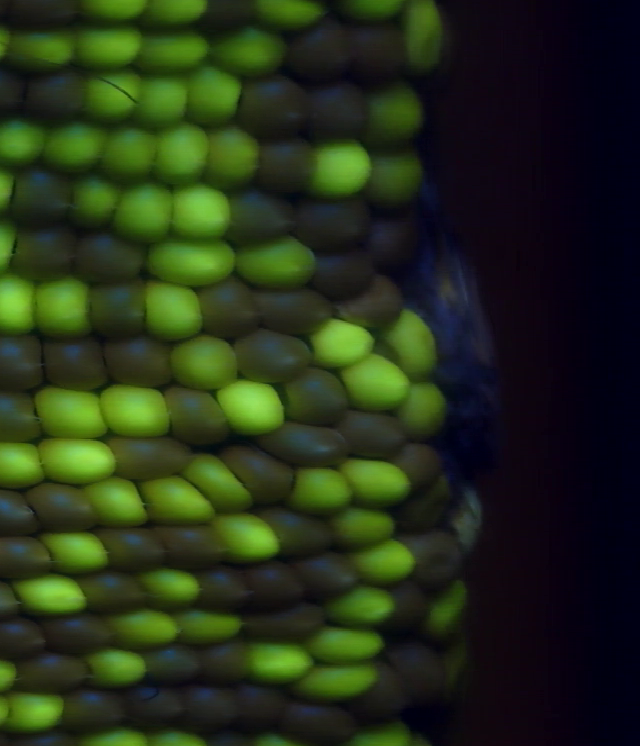fluorescent: (237, 232, 316, 286), (97, 382, 168, 440), (36, 386, 107, 442), (381, 309, 439, 377), (114, 177, 175, 240), (147, 241, 236, 284), (213, 26, 289, 75), (98, 124, 158, 186), (39, 437, 116, 485), (217, 379, 288, 431), (31, 277, 89, 340), (187, 453, 251, 510), (313, 140, 373, 199), (207, 124, 259, 191), (143, 279, 203, 337), (74, 22, 143, 71), (343, 358, 409, 409), (293, 463, 353, 519), (40, 120, 103, 173), (171, 337, 237, 387), (155, 125, 207, 187), (174, 184, 233, 238), (218, 513, 282, 561), (188, 68, 242, 124), (370, 147, 422, 205), (174, 184, 232, 236), (366, 85, 422, 137), (142, 32, 213, 72), (143, 477, 206, 522), (347, 458, 408, 504), (398, 383, 448, 439), (91, 478, 147, 527), (43, 535, 113, 573), (311, 622, 381, 660), (312, 321, 371, 366), (86, 72, 139, 122), (137, 72, 187, 125), (6, 32, 77, 69), (336, 586, 395, 628), (355, 541, 415, 582), (247, 642, 310, 681), (407, 2, 444, 68), (336, 508, 397, 548), (112, 610, 181, 645), (0, 275, 39, 335), (18, 578, 86, 612), (8, 690, 63, 732), (428, 582, 472, 634), (302, 666, 375, 697), (0, 440, 46, 489), (141, 568, 198, 607), (72, 179, 115, 227), (178, 611, 242, 643), (0, 121, 46, 165), (92, 650, 145, 687)
nonfluorescent: (238, 75, 309, 139), (290, 196, 367, 251), (229, 444, 296, 505), (233, 329, 308, 383), (10, 166, 73, 229), (228, 185, 292, 247), (72, 232, 145, 285), (11, 224, 72, 285), (198, 278, 261, 337), (90, 278, 150, 337), (309, 82, 370, 140), (165, 388, 228, 444), (28, 479, 93, 533), (270, 421, 346, 467), (101, 338, 168, 390), (282, 368, 345, 423), (104, 436, 189, 474), (258, 289, 328, 335), (292, 23, 352, 76), (361, 661, 407, 730), (20, 67, 81, 119), (254, 138, 317, 188), (340, 412, 407, 459), (44, 337, 105, 388), (352, 22, 406, 79), (127, 683, 187, 733), (277, 698, 353, 737), (247, 562, 306, 612), (245, 602, 321, 640), (101, 528, 168, 571), (316, 251, 371, 302), (342, 277, 399, 326), (0, 332, 44, 393), (164, 523, 225, 567), (19, 651, 89, 689), (368, 207, 414, 264), (143, 643, 198, 690), (80, 572, 144, 612), (62, 686, 121, 729), (185, 690, 238, 737), (276, 507, 330, 553), (238, 685, 283, 740), (409, 532, 463, 576), (0, 389, 42, 444), (47, 615, 110, 650), (197, 564, 248, 606), (0, 536, 51, 577), (306, 552, 355, 594), (399, 646, 445, 689), (402, 443, 442, 492), (196, 641, 244, 681), (0, 619, 45, 658), (0, 486, 34, 536), (389, 587, 429, 627)
